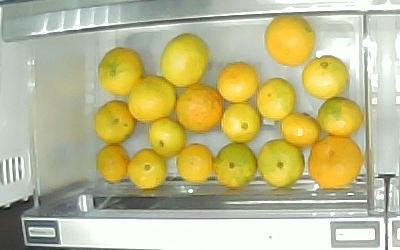tangerine: (308, 137, 364, 190), (160, 33, 209, 88), (265, 15, 315, 67), (128, 75, 178, 123), (176, 85, 224, 132), (258, 141, 305, 188), (98, 48, 143, 96), (302, 56, 349, 99), (214, 143, 257, 189), (93, 100, 136, 145), (318, 97, 364, 138), (222, 103, 263, 143), (257, 78, 296, 120), (218, 63, 259, 102), (129, 149, 168, 189), (148, 117, 186, 157), (176, 144, 214, 183), (280, 112, 319, 146), (96, 145, 130, 182)
